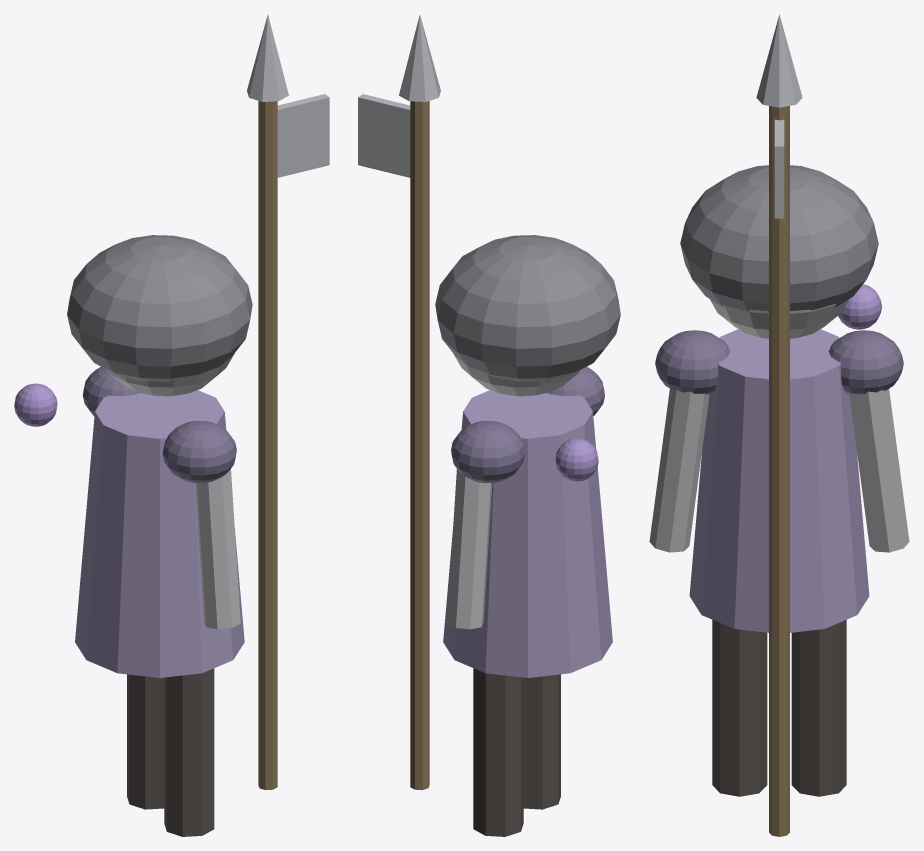
Rendered from hero_vhorren_3.glb.
3 renders of one model, left to right at view 1: azimuth 30°, elevation 25°; view 2: azimuth 150°, elevation 25°; view 3: azimuth 270°, elevation 25°, orthographic. The views are drawn at different scales.
Visible parts, largest first — view 1: figurka; view 2: figurka; view 3: figurka.
Part boxes in pixels (x1,y1,x2,y2): figurka: [14, 14, 329, 836]; figurka: [358, 14, 620, 836]; figurka: [649, 14, 909, 836].
Size of the model in its own units: 0.505 by 1.37 by 0.393.
